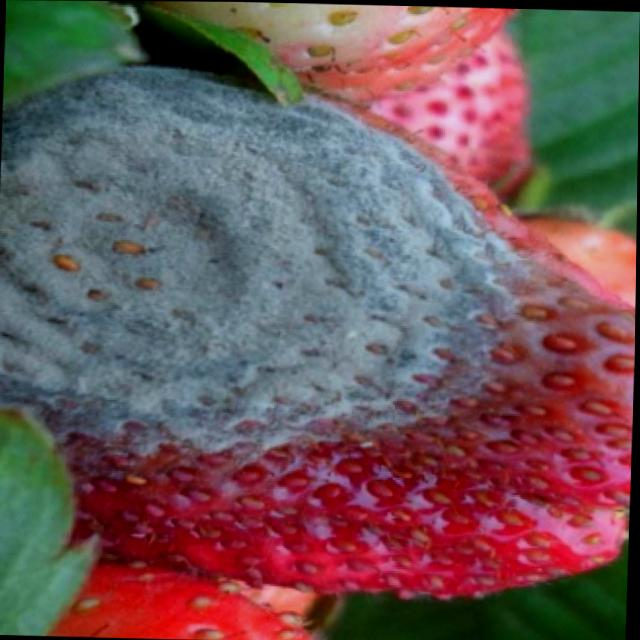Gray Mold: (0, 61, 636, 542)
